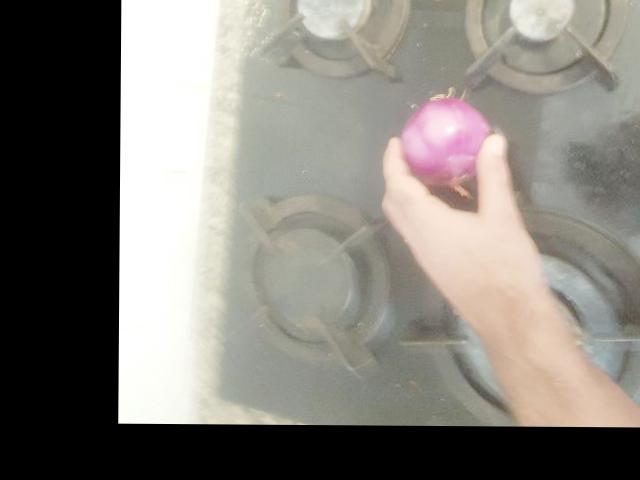onion: (278, 43, 372, 148)
